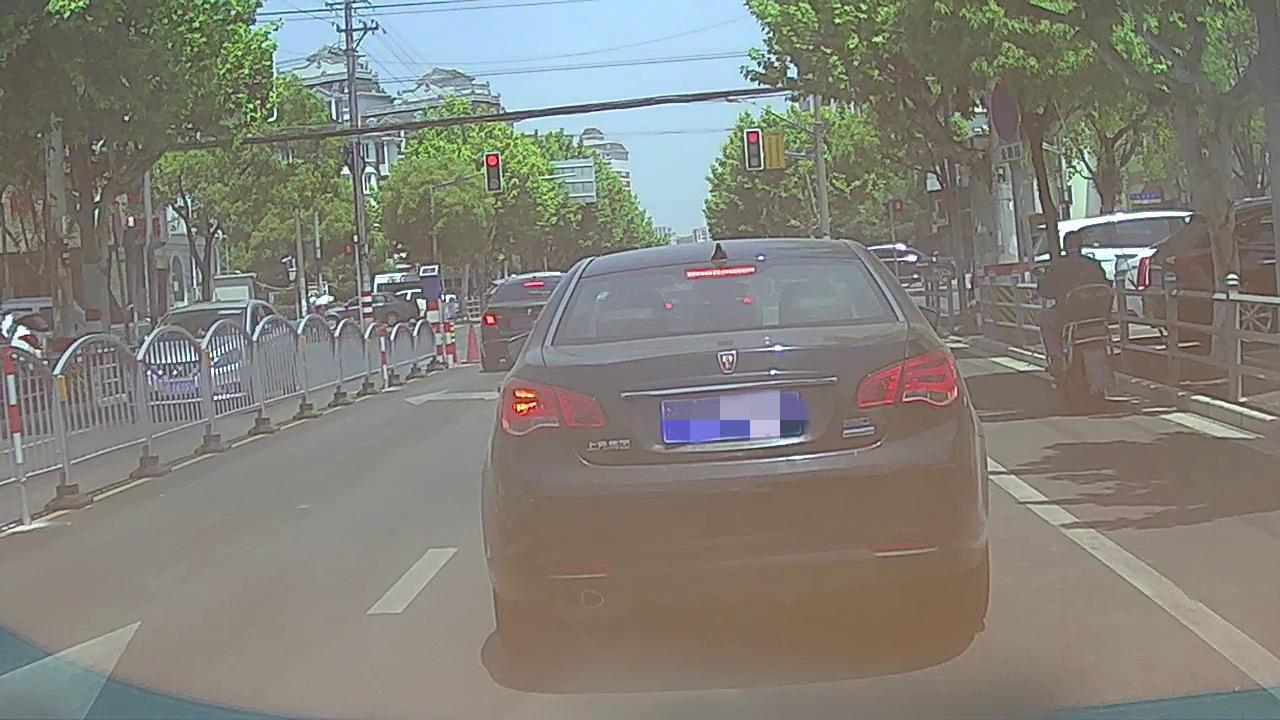traffic_light: (746, 131, 762, 169), (486, 154, 500, 191)
